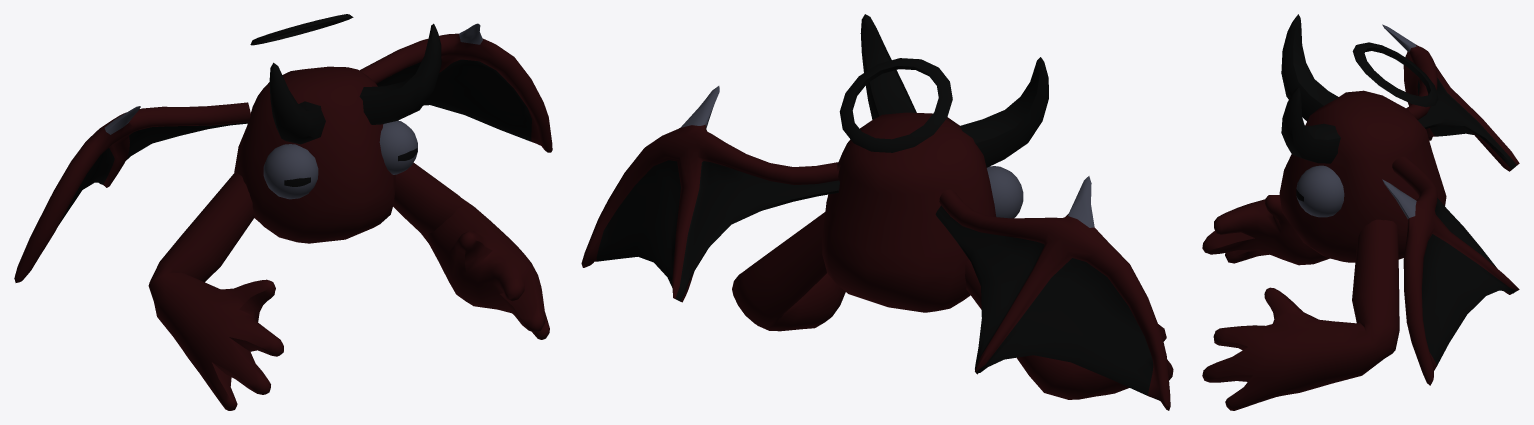
File: Demon.obj
3 views of the same model, side by side, from view 1: azimuth 30°, elevation 25°; view 2: azimuth 150°, elevation 25°; view 3: azimuth 270°, elevation 25° (orthographic). The views are drawn at different scales.
Visible parts, largest first — view 1: Demon_Flying.002_Cube.001, Demon_Flying_Cube.125, Demon_Flying.001_Cube.000; view 2: Demon_Flying.002_Cube.001, Demon_Flying_Cube.125, Demon_Flying.001_Cube.000; view 3: Demon_Flying.002_Cube.001, Demon_Flying_Cube.125, Demon_Flying.001_Cube.000.
Part boxes in pixels (x1=…): Demon_Flying.002_Cube.001: x1=14, y1=23, x2=552, y2=410; Demon_Flying_Cube.125: x1=234, y1=66, x2=395, y2=243; Demon_Flying.001_Cube.000: x1=250, y1=14, x2=441, y2=199; Demon_Flying.002_Cube.001: x1=581, y1=86, x2=1173, y2=410; Demon_Flying_Cube.125: x1=822, y1=112, x2=996, y2=312; Demon_Flying.001_Cube.000: x1=839, y1=14, x2=1048, y2=218; Demon_Flying.002_Cube.001: x1=1202, y1=24, x2=1519, y2=410; Demon_Flying_Cube.125: x1=1279, y1=90, x2=1446, y2=262; Demon_Flying.001_Cube.000: x1=1281, y1=14, x2=1438, y2=217.
Bounding box in the file's own units: 4.38 × 2.41 × 2.39.
